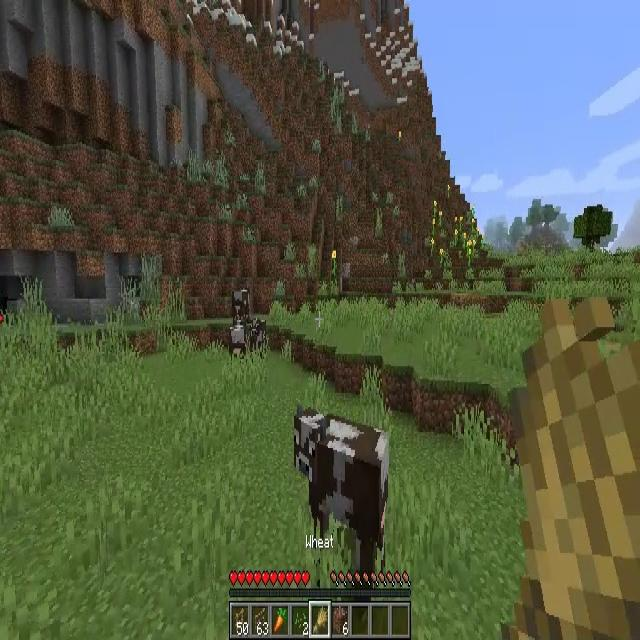cow: (294, 402, 389, 570)
